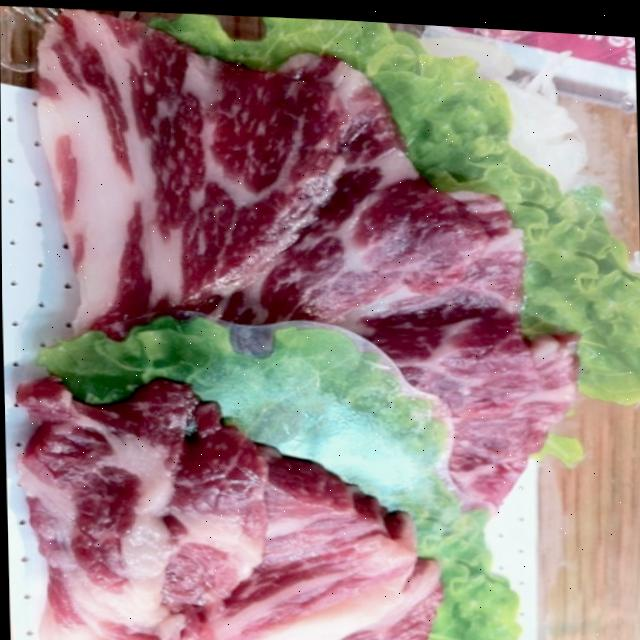刺身生食: (4, 14, 600, 640)
